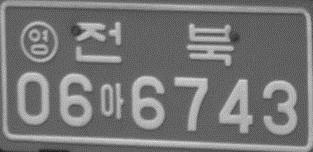0: (15, 71, 52, 126)
3: (261, 79, 298, 137)
4: (217, 76, 253, 133)
6: (129, 74, 166, 131), (58, 72, 93, 129)
7: (172, 75, 209, 133)
아: (99, 83, 126, 120)
영: (19, 20, 59, 64)
전북_D: (71, 21, 234, 67)
